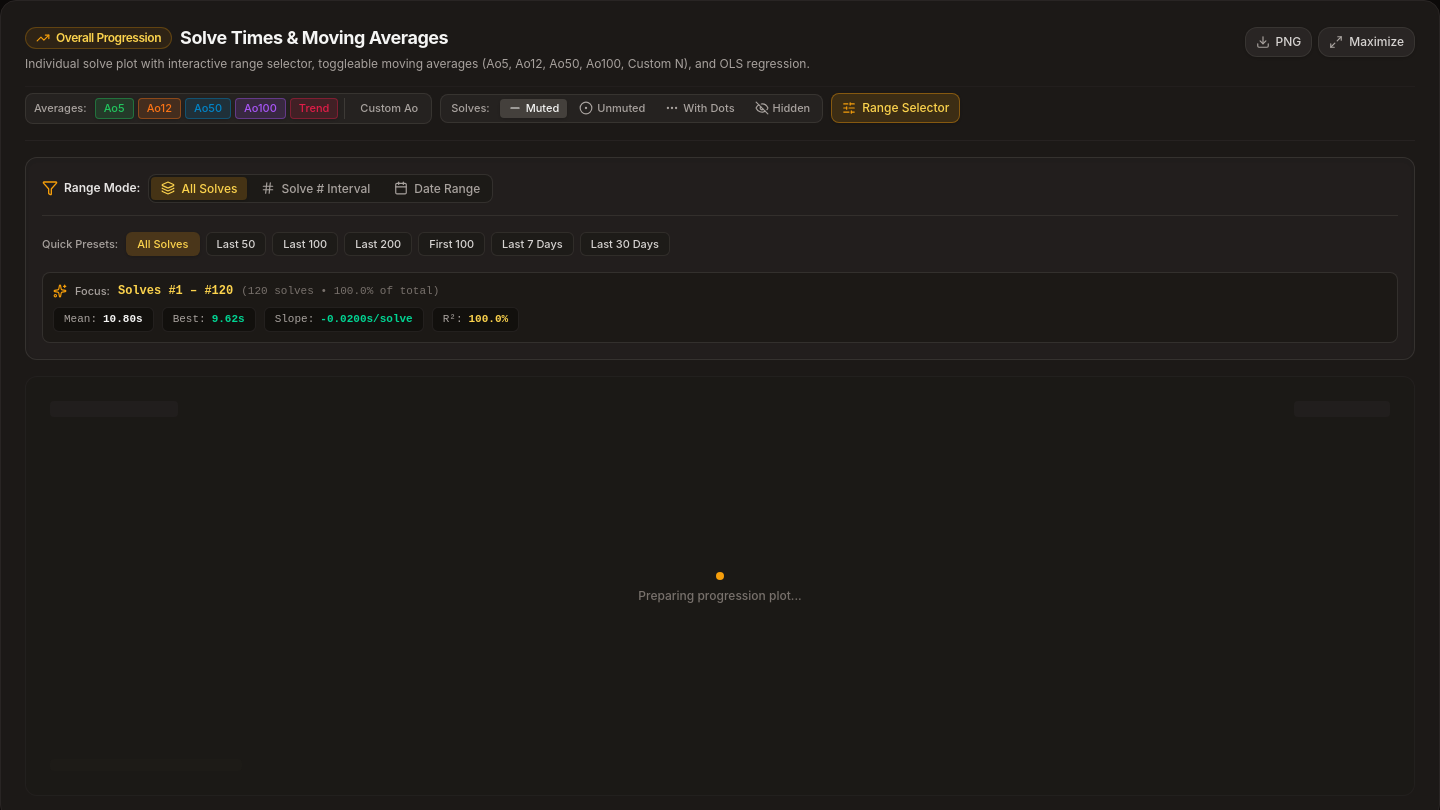
Scenario: ProgressionChart component › renders slider container with responsive flex-col md:flex-row layout
The image size is (1440, 810).
Click the button "Solve # Interval": (316, 188) [252,177,380,200]
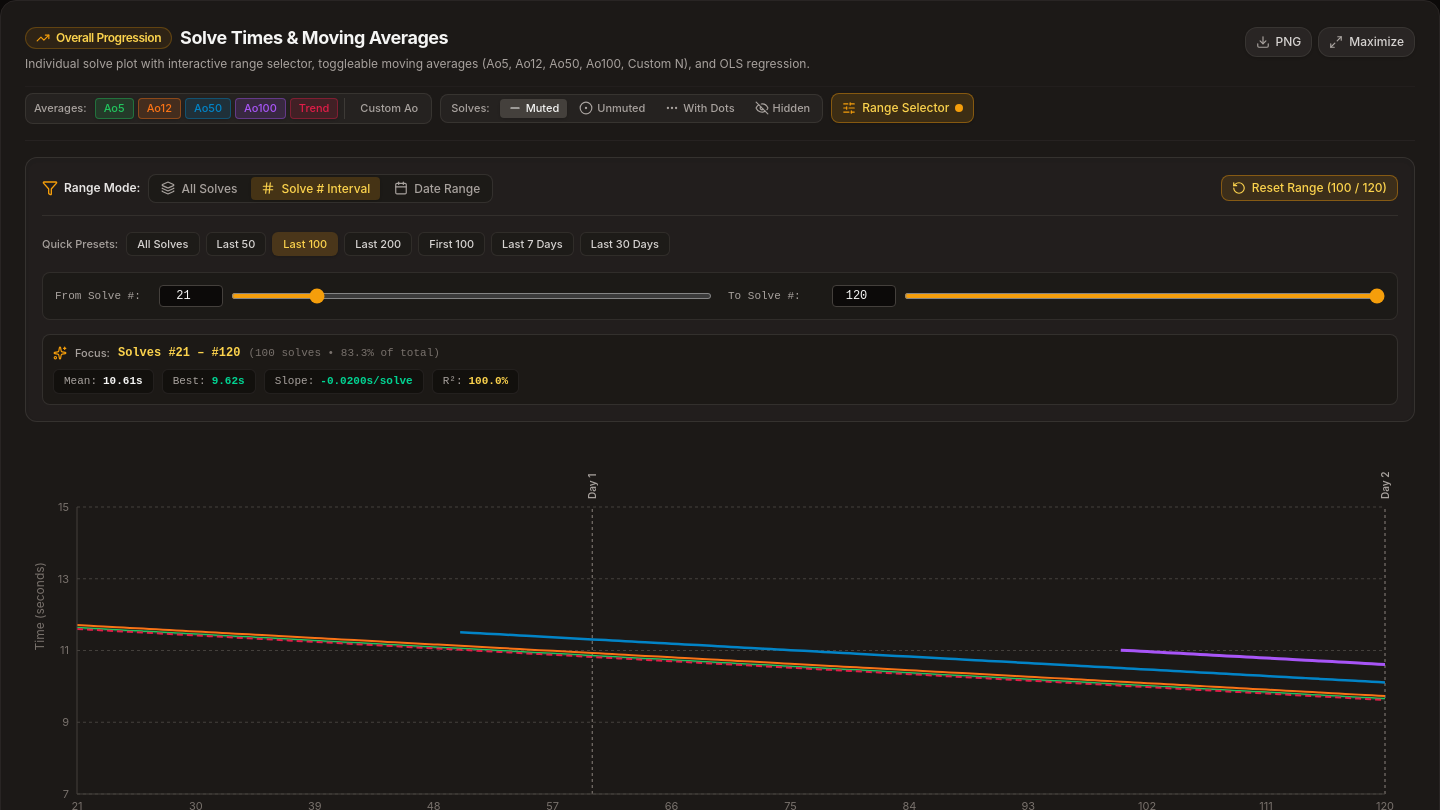
Result: the element with class "flex-col" showing "From Solve #: To Solve #:" is shown at [55,285,1385,307]
